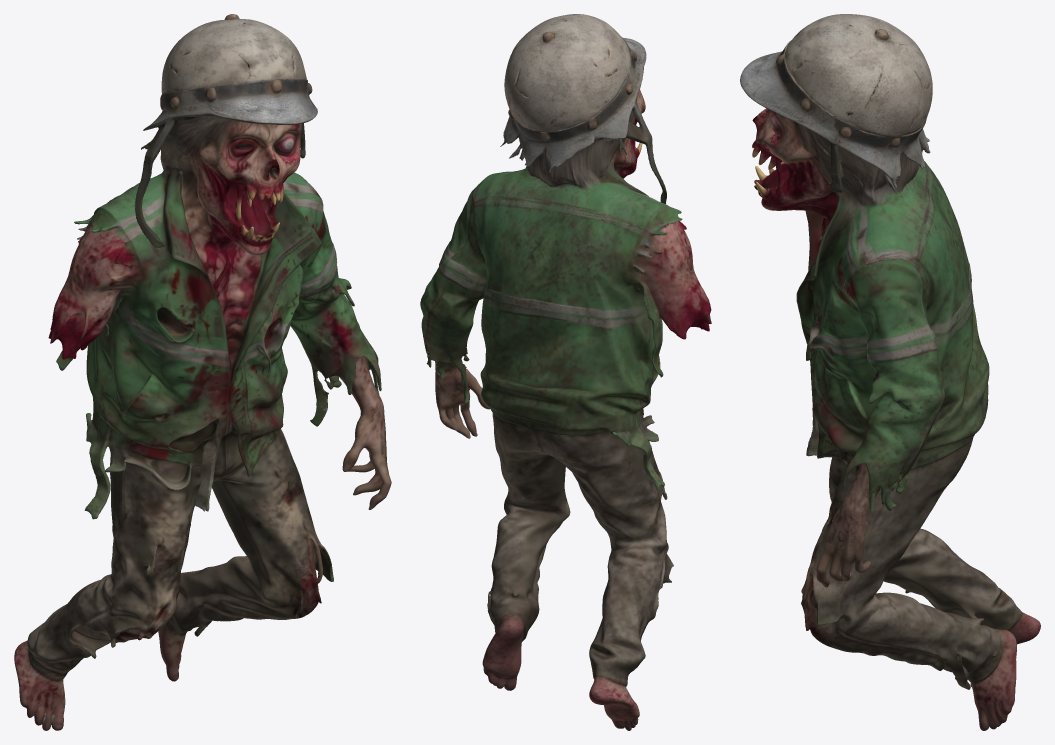
The model's file is nga-quy-chet-duong.glb.
The picture shows the model from 3 angles, left to right: view 1: azimuth 30°, elevation 25°; view 2: azimuth 150°, elevation 25°; view 3: azimuth 270°, elevation 25°; orthographic projection. The views are drawn at different scales.
Bounding box in the file's own units: 0.4712 × 1 × 0.3769.
1 material, 1 textured.
